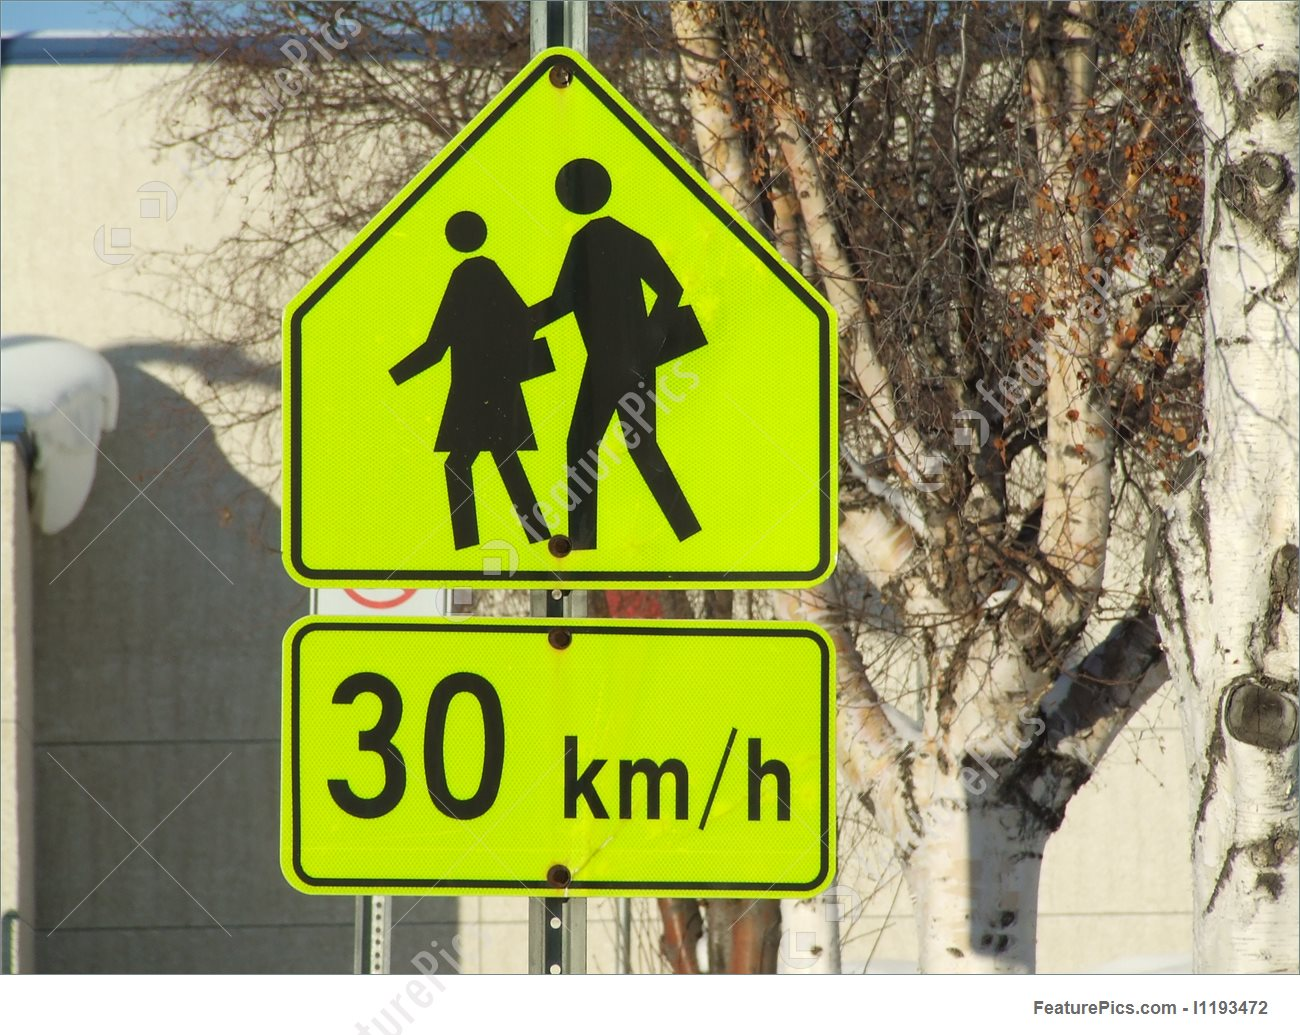slow: (281, 44, 840, 594)
